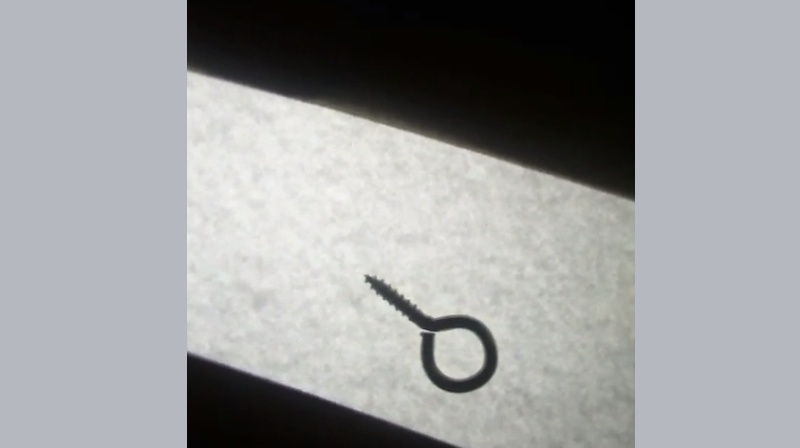O001: (360, 270, 502, 398)
